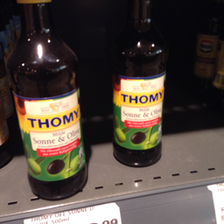oil: (6, 1, 88, 200), (111, 1, 167, 168)
